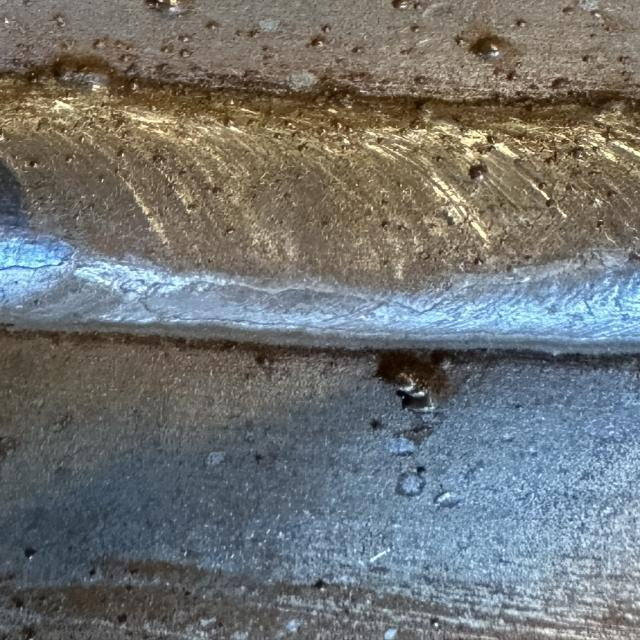Spatters: (395, 371, 430, 404), (470, 36, 508, 60), (145, 0, 197, 15), (470, 164, 488, 182), (309, 35, 327, 48), (22, 626, 37, 640), (312, 579, 328, 591), (392, 0, 409, 10), (562, 6, 577, 16), (430, 618, 442, 630), (385, 629, 398, 640), (12, 596, 23, 609), (178, 48, 192, 58), (25, 549, 37, 560), (545, 199, 558, 209), (205, 20, 218, 30), (507, 70, 518, 81), (223, 226, 235, 236), (28, 159, 40, 169), (515, 19, 527, 28), (352, 46, 365, 54), (93, 39, 103, 49), (223, 116, 233, 126), (455, 35, 465, 45), (247, 29, 258, 38), (412, 1, 423, 10), (297, 142, 308, 151), (487, 135, 498, 144), (130, 79, 138, 91), (160, 45, 173, 52), (65, 155, 75, 164), (287, 120, 297, 129), (597, 219, 605, 230), (178, 35, 190, 42), (113, 166, 122, 175), (410, 24, 420, 32), (322, 24, 332, 32), (380, 220, 390, 228), (117, 149, 125, 158), (593, 11, 602, 19), (318, 127, 327, 135), (519, 134, 527, 143), (433, 155, 443, 162), (473, 258, 483, 265), (273, 132, 283, 139), (397, 224, 407, 231), (620, 56, 628, 64), (537, 181, 545, 189), (97, 175, 105, 182), (335, 122, 343, 129), (77, 136, 85, 142), (227, 99, 235, 105), (584, 57, 590, 64), (517, 60, 522, 66)
